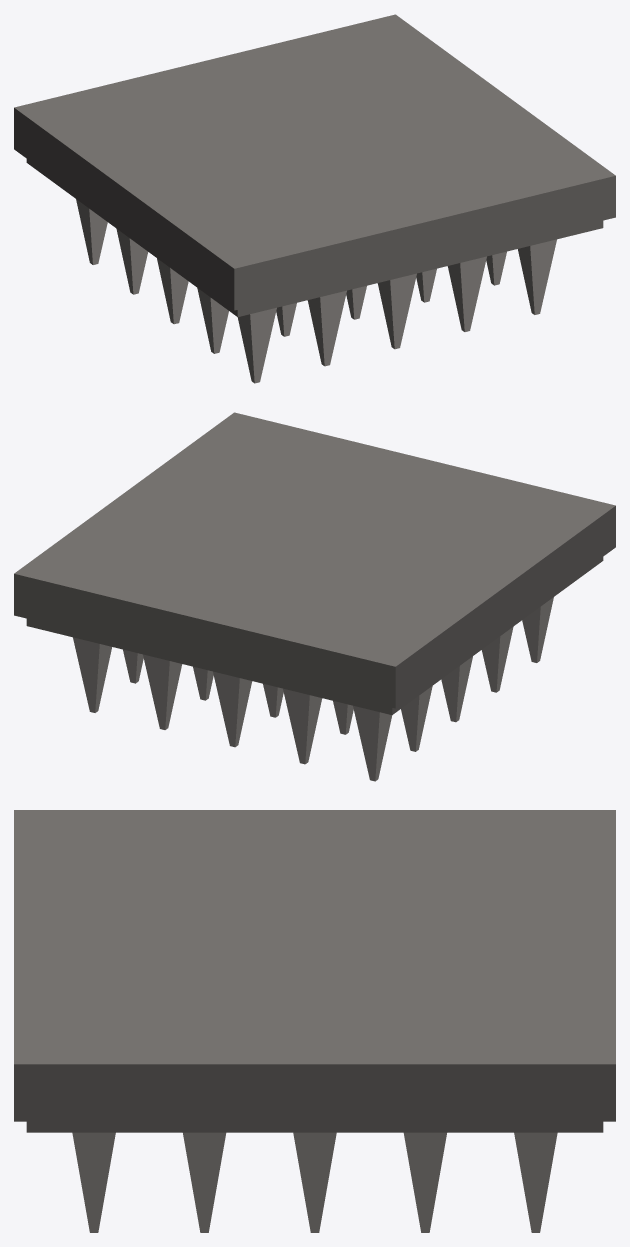
Rendered from SD_Trap_SpikeBlock_02.fbx.
3 renders of one model, top to bottom at view 1: azimuth 30°, elevation 25°; view 2: azimuth 150°, elevation 25°; view 3: azimuth 270°, elevation 25°, orthographic. The views are drawn at different scales.
Parts seen in each view (by area): view 1: SD_Trap_SpikeBlock_02; view 2: SD_Trap_SpikeBlock_02; view 3: SD_Trap_SpikeBlock_02.
Part boxes in pixels (x1,y1,x2,y2): SD_Trap_SpikeBlock_02: [14, 14, 615, 383]; SD_Trap_SpikeBlock_02: [14, 412, 615, 781]; SD_Trap_SpikeBlock_02: [14, 810, 615, 1232].
Bounding box in the file's own units: 5 × 1.84 × 5.
